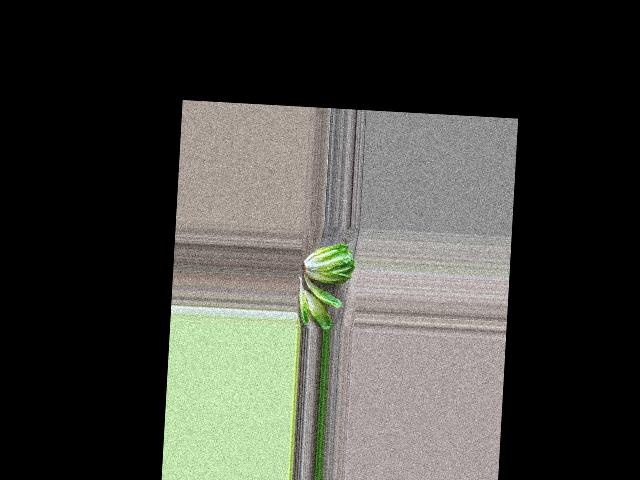lettuce: (303, 240, 355, 287)
